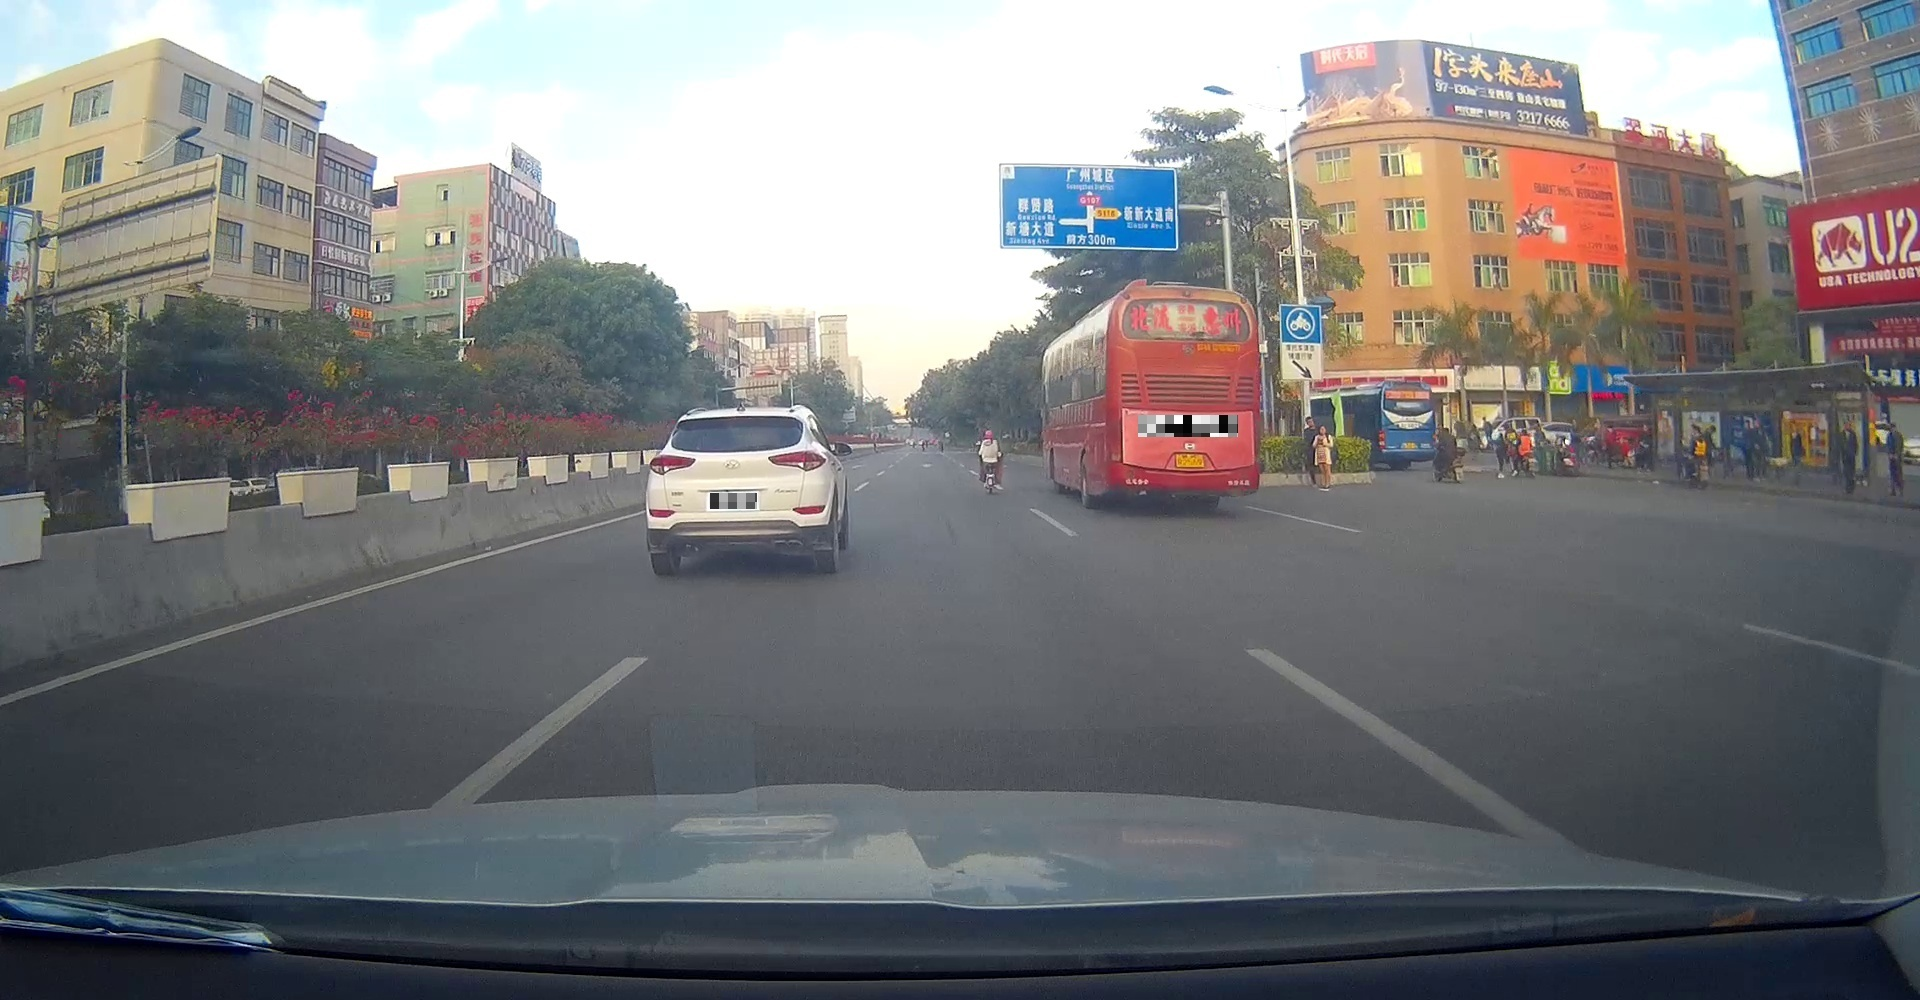L_light: (648, 453, 696, 475), (1110, 409, 1121, 459)
R_light: (770, 451, 827, 473), (1255, 411, 1262, 464)
T_light: (723, 418, 756, 424), (1178, 298, 1201, 305)
day-no: (1109, 279, 1262, 510), (648, 410, 834, 574)
plate_1: (710, 492, 757, 509)
plate_2: (1138, 415, 1238, 437)
